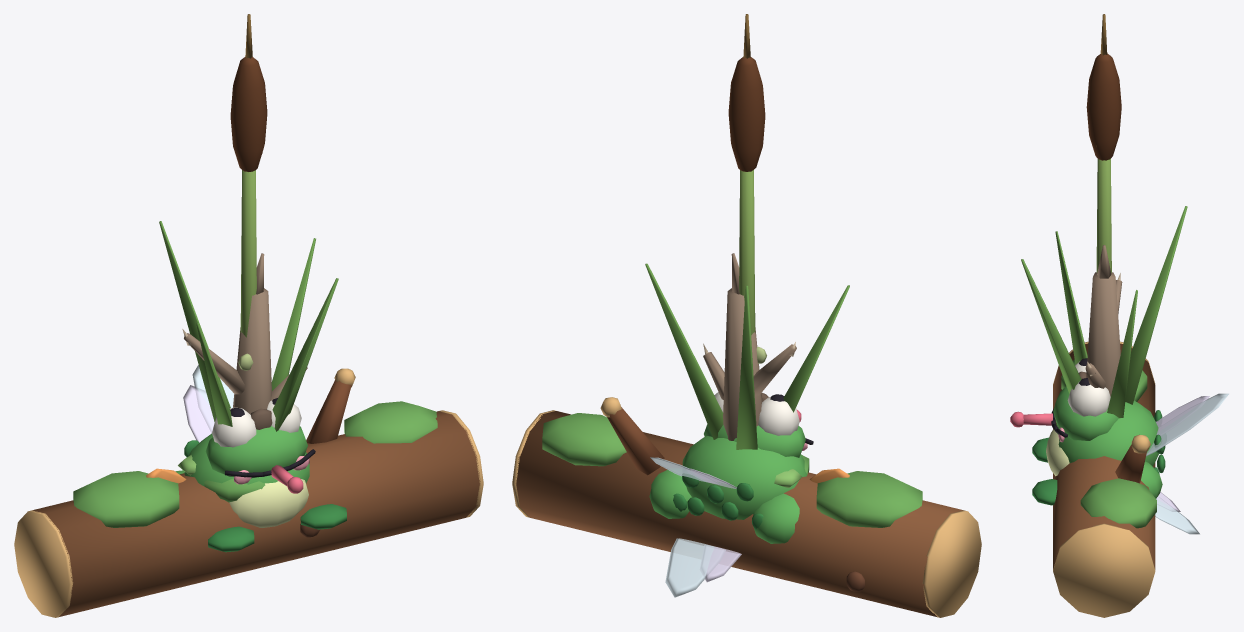
File: water-care-cast.glb
3 views of the same model, side by side, from view 1: azimuth 30°, elevation 25°; view 2: azimuth 150°, elevation 25°; view 3: azimuth 270°, elevation 25° (orthographic). The views are drawn at different scales.
Parts seen in each view (by area): view 1: CRITTER_log_trunk, CRITTER_log, CRITTER_cattail, CRITTER_log_cut_L, CRITTER_cattail_seed, CRITTER_frog_head, CRITTER_snag_trunk, CRITTER_frog_belly, CRITTER_cattail_stalk, CRITTER_log_stub, CRITTER_snag, CRITTER_frog_body (+5 smaller); view 2: CRITTER_log_trunk, CRITTER_log, CRITTER_cattail, CRITTER_frog_body, CRITTER_log_cut_L, CRITTER_cattail_seed, CRITTER_snag_trunk, wing_R_fore, CRITTER_cattail_stalk, CRITTER_frog_thigh_L, CRITTER_log_stub, CRITTER_frog (+5 smaller); view 3: CRITTER_log_cut_R, CRITTER_cattail, CRITTER_log_trunk, CRITTER_log, CRITTER_cattail_seed, CRITTER_snag_trunk, CRITTER_frog_body, CRITTER_frog_head, CRITTER_cattail_stalk, wing_L_fore, CRITTER_frog_R_eye, wing_L_hind (+9 smaller).
Boxes of the visible parts, x1,y1,x2,y2 form: CRITTER_log_trunk: (32,411,480,617); CRITTER_log: (73,401,437,537); CRITTER_cattail: (159,221,338,431); CRITTER_log_cut_L: (14,510,73,617); CRITTER_cattail_seed: (230,56,267,171); CRITTER_frog_head: (205,426,307,478); CRITTER_snag_trunk: (233,288,271,414); CRITTER_frog_belly: (229,479,308,527); CRITTER_cattail_stalk: (240,170,256,337); CRITTER_log_stub: (306,379,351,443); CRITTER_snag: (182,329,307,400); CRITTER_frog_body: (184,433,309,502); CRITTER_log_trunk: (516,411,963,617); CRITTER_log: (542,413,922,591); CRITTER_cattail: (645,263,849,449); CRITTER_frog_body: (682,436,807,519); CRITTER_log_cut_L: (922,510,981,617); CRITTER_cattail_seed: (728,57,765,171); CRITTER_snag_trunk: (723,288,762,440); wing_R_fore: (665,538,725,597); CRITTER_cattail_stalk: (739,170,755,334); CRITTER_frog_thigh_L: (751,493,799,543); CRITTER_log_stub: (607,407,664,475); CRITTER_frog: (673,438,813,529); CRITTER_log_cut_R: (1053,523,1155,617); CRITTER_cattail: (1021,206,1187,418); CRITTER_log_trunk: (1053,343,1155,569); CRITTER_log: (1056,359,1156,528); CRITTER_cattail_seed: (1086,53,1121,160); CRITTER_snag_trunk: (1086,272,1120,396); CRITTER_frog_body: (1057,400,1159,466); CRITTER_frog_head: (1053,386,1118,440); CRITTER_cattail_stalk: (1096,158,1111,272); wing_L_fore: (1146,393,1228,456); CRITTER_frog_R_eye: (1067,381,1110,416); wing_L_hind: (1156,396,1209,435).
Bounding box in the file's own units: 0.608 × 0.7711 × 0.3.
